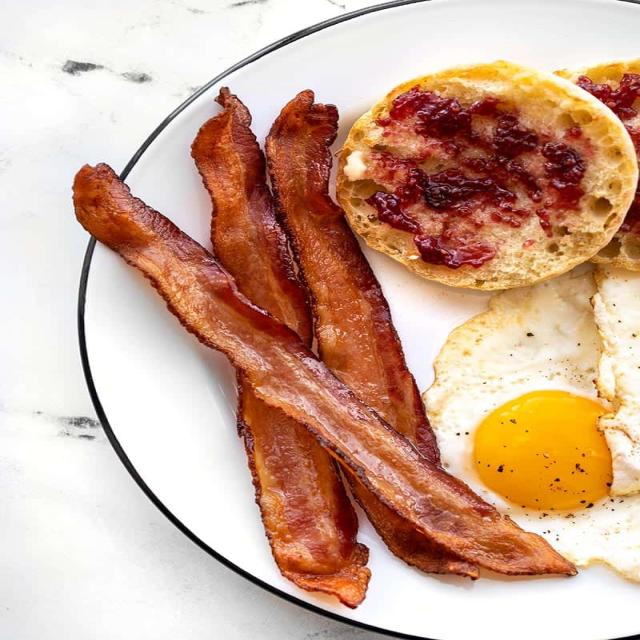Bacon: (73, 164, 577, 578), (265, 90, 438, 461), (192, 89, 313, 345), (238, 382, 370, 607)
Egg: (337, 61, 639, 289), (423, 262, 639, 580)
